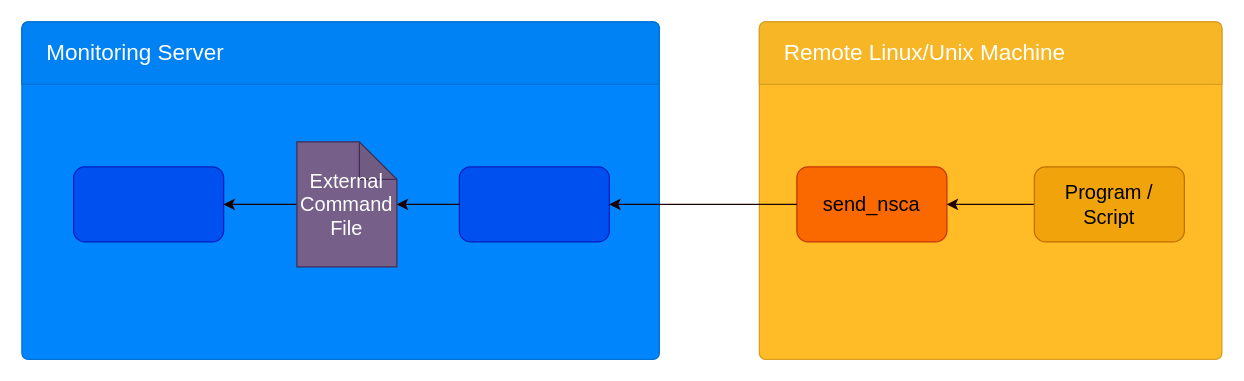
Image size: 1244x381. Some labels were removed from this diagram. Each missing label, with the box of its shape:
Naemon: (72, 166, 224, 242)
NSCA: (458, 166, 609, 242)
